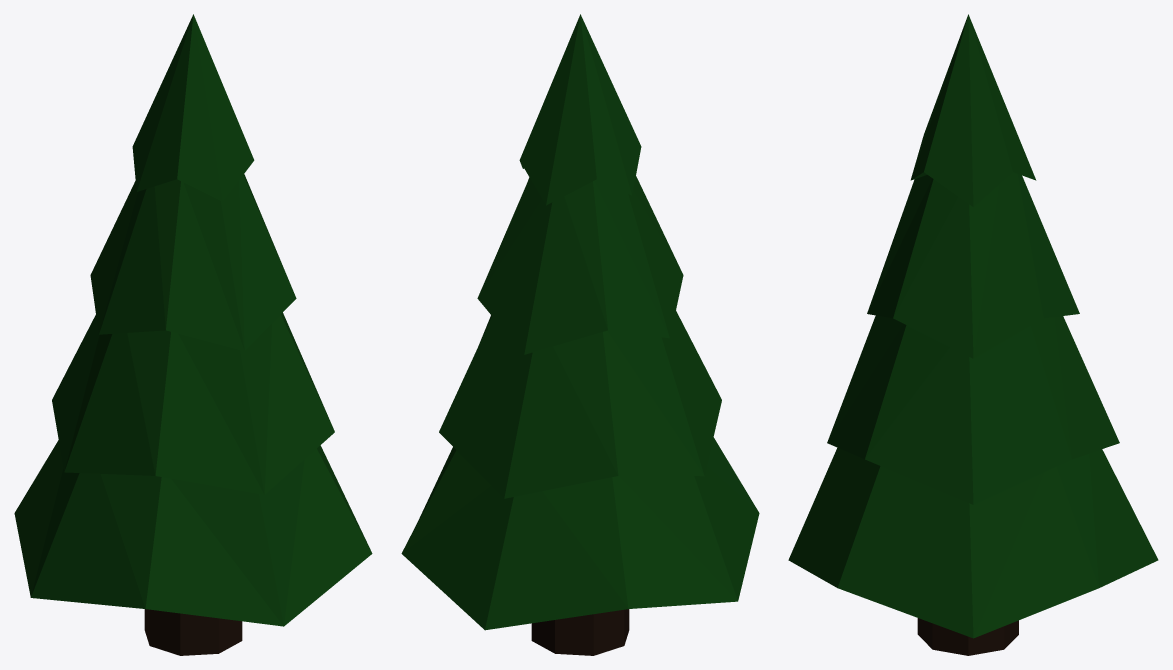
Rendered from arbol.obj.
The picture shows the model from 3 angles, left to right: view 1: azimuth 30°, elevation 25°; view 2: azimuth 150°, elevation 25°; view 3: azimuth 270°, elevation 25°; orthographic projection.
Visible parts, largest first — view 1: Cylinder.001; view 2: Cylinder.001; view 3: Cylinder.001.
Boxes of the visible parts, <box> form: Cylinder.001: <box>14,14,372,655</box>; Cylinder.001: <box>401,14,759,655</box>; Cylinder.001: <box>788,14,1158,655</box>.
Bounding box in the file's own units: 5.31 × 9.81 × 5.31.
